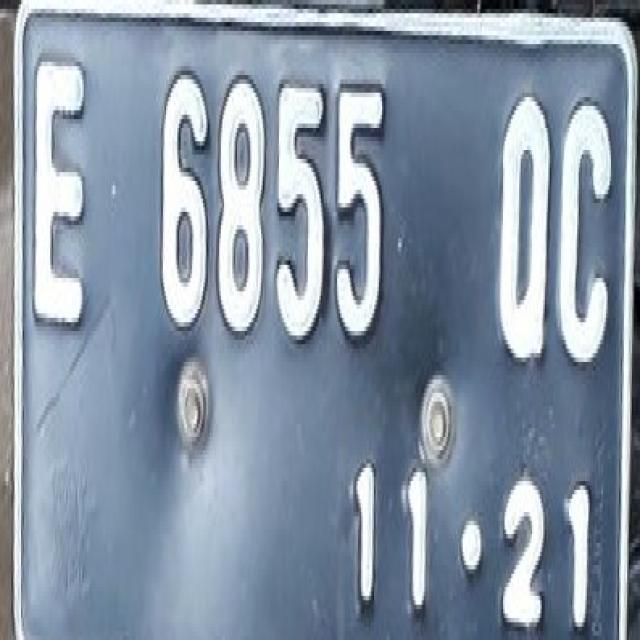plate: (13, 0, 635, 636)
